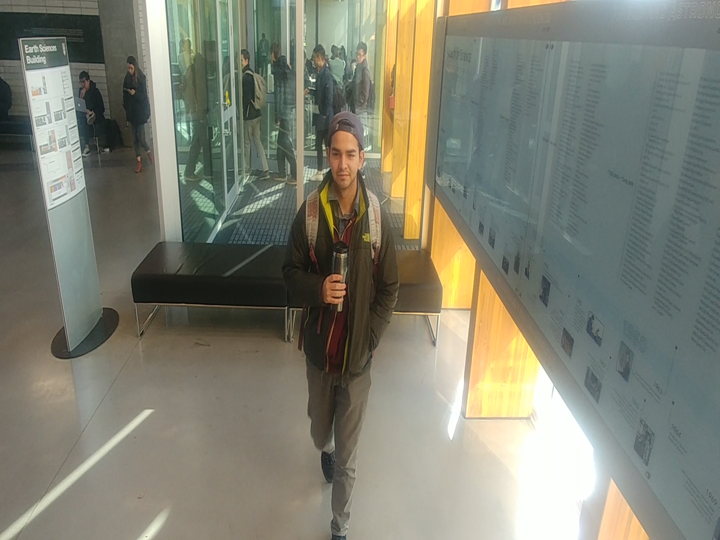face: (318, 107, 368, 196), (309, 39, 330, 72), (265, 35, 287, 66), (350, 39, 374, 66), (120, 50, 142, 79), (72, 66, 96, 92), (240, 44, 252, 74)
human: (277, 105, 402, 540), (263, 39, 298, 189), (239, 43, 271, 184), (121, 52, 154, 178), (305, 39, 333, 183), (74, 64, 115, 161), (344, 35, 379, 118)
